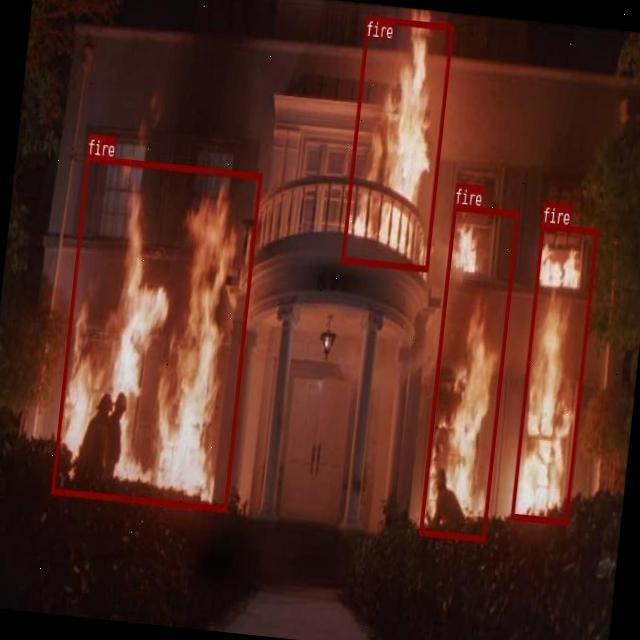fire: (51, 154, 261, 510), (418, 204, 518, 540), (340, 15, 452, 271), (510, 222, 598, 524)
